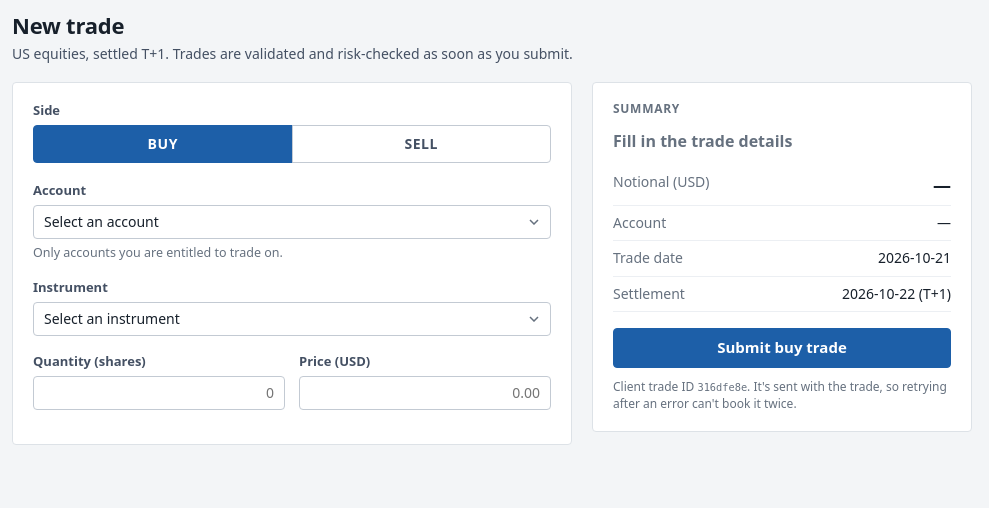
Test: new trade form › says so when the trade had already been submitted
Select "ACC-1001 · Harbor Growth Fund" in the dropdown labelled "Account" at (292, 222), box left=33, top=205, right=551, bottom=239
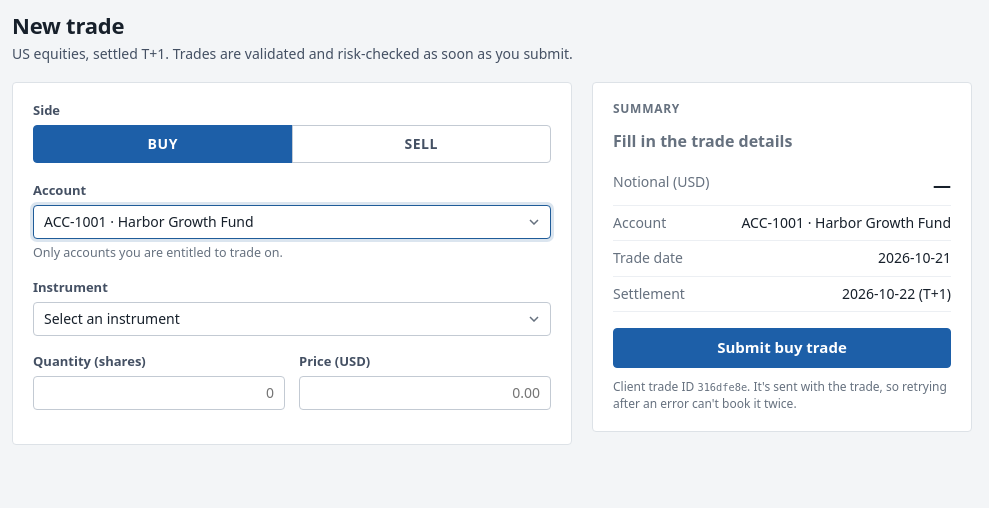
Select "AAPL · Apple Inc." in the dropdown labelled "Instrument" at (292, 319), box left=33, top=302, right=551, bottom=336
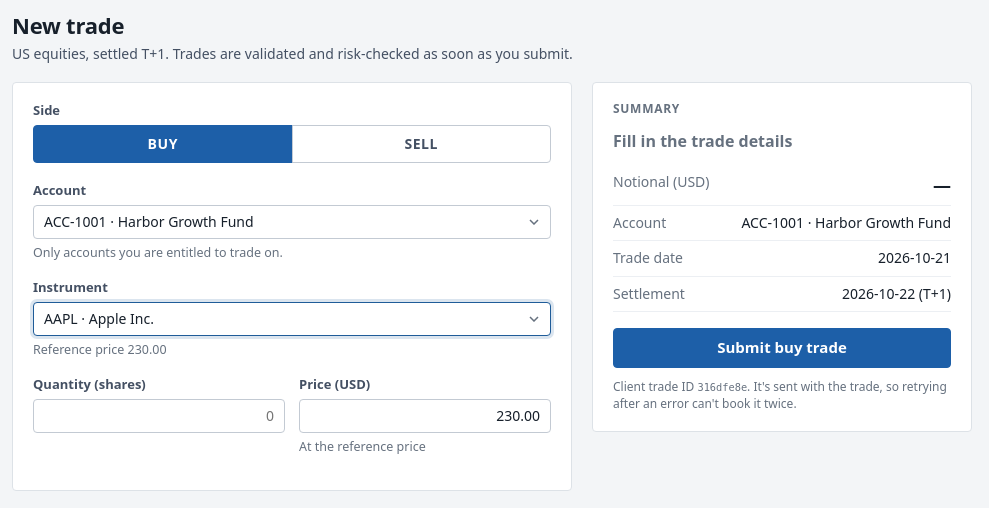
Type "100" into the field labelled "Quantity (shares)" at (159, 416), box left=33, top=399, right=285, bottom=433
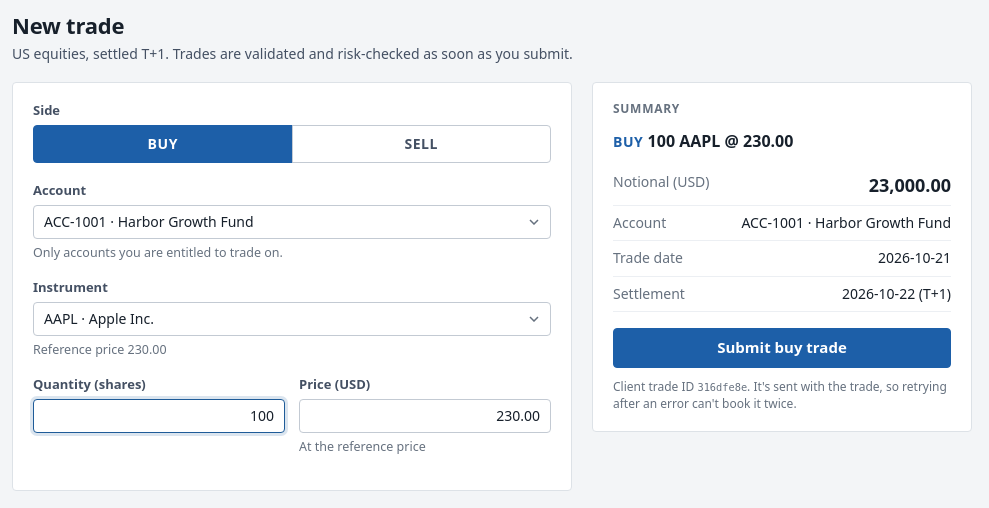
Click the button "Submit buy trade" at (782, 348), box left=613, top=328, right=951, bottom=368
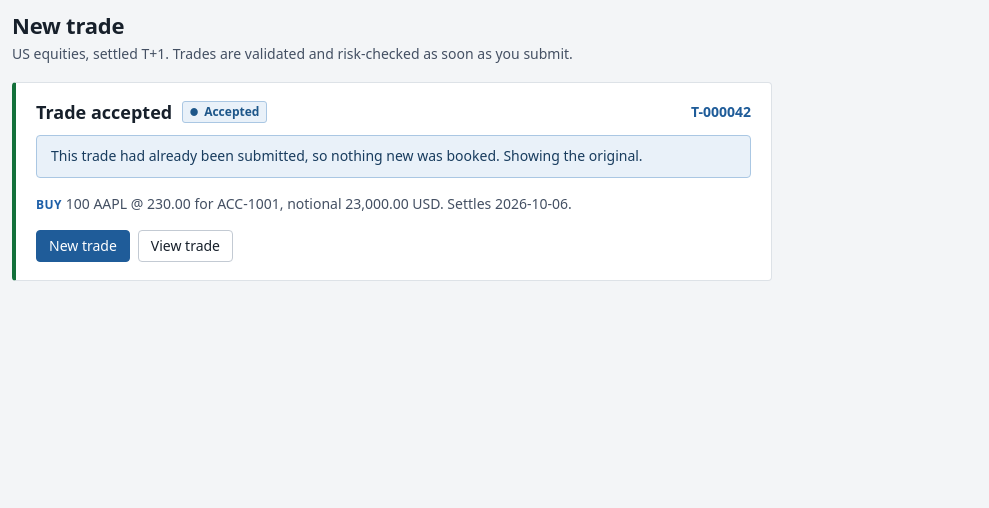
Check: the text "already been submitted, so nothing new was booked" is shown, box left=51, top=146, right=643, bottom=165
